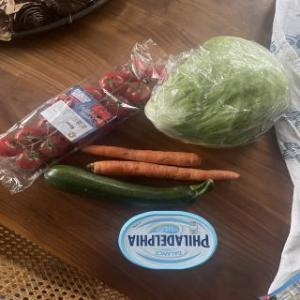cabbage: (138, 29, 292, 154)
carrot: (74, 137, 210, 175), (85, 157, 241, 189)
tomato: (12, 146, 44, 174), (15, 124, 45, 150), (103, 92, 133, 118), (97, 69, 127, 94), (126, 79, 156, 104), (39, 135, 69, 159), (1, 133, 28, 157)
zucchini: (39, 163, 225, 213)
